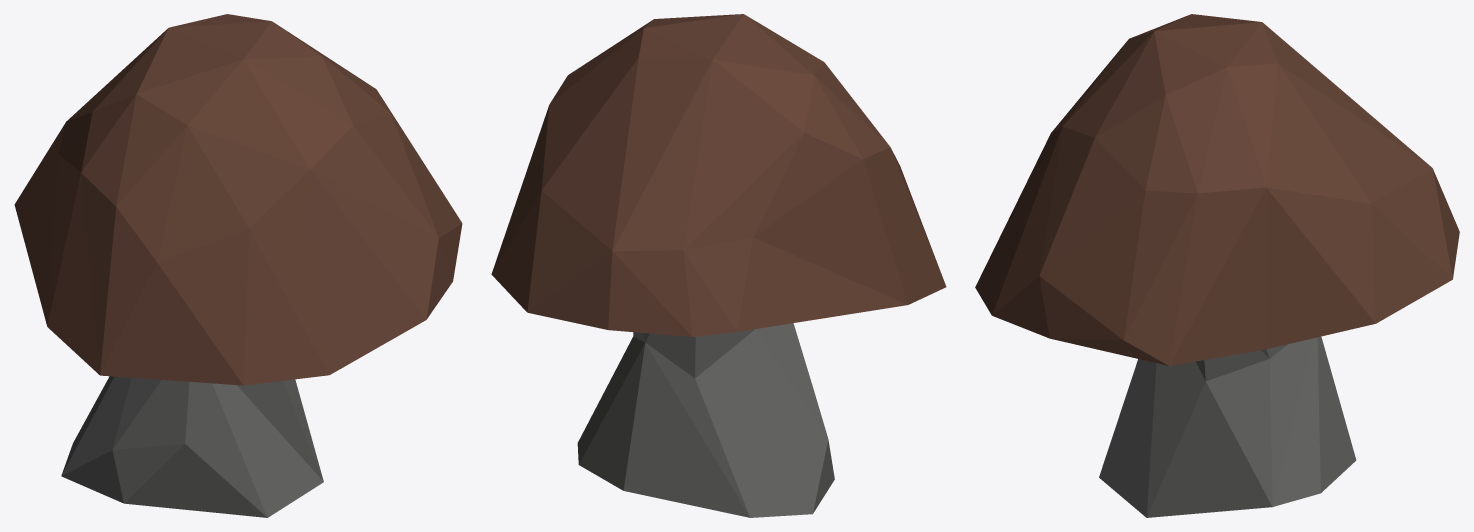
File: mushroom_00.fbx
The picture shows the model from 3 angles, left to right: view 1: azimuth 30°, elevation 25°; view 2: azimuth 150°, elevation 25°; view 3: azimuth 270°, elevation 25°; orthographic projection. The views are drawn at different scales.
Visible parts, largest first — view 1: mushroomPM3D_Sphere3D_4, mushroomPM3D_Cylinder3D1; view 2: mushroomPM3D_Sphere3D_4, mushroomPM3D_Cylinder3D1; view 3: mushroomPM3D_Sphere3D_4, mushroomPM3D_Cylinder3D1.
Part boxes in pixels (<box>): mushroomPM3D_Sphere3D_4: <box>14,14,462,385</box>; mushroomPM3D_Cylinder3D1: <box>61,376,323,517</box>; mushroomPM3D_Sphere3D_4: <box>491,14,946,336</box>; mushroomPM3D_Cylinder3D1: <box>577,323,834,517</box>; mushroomPM3D_Sphere3D_4: <box>975,14,1459,365</box>; mushroomPM3D_Cylinder3D1: <box>1099,336,1356,517</box>.
Bounding box in the file's own units: 171 × 185 × 181.
